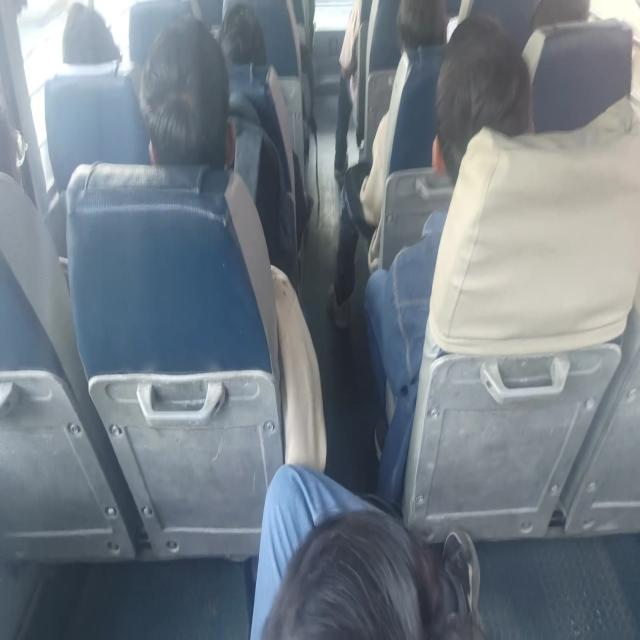person: (258, 512, 476, 640), (430, 39, 528, 180), (143, 39, 233, 172), (53, 0, 121, 69), (213, 0, 270, 71), (0, 97, 33, 202), (535, 0, 593, 49), (392, 0, 442, 55)
